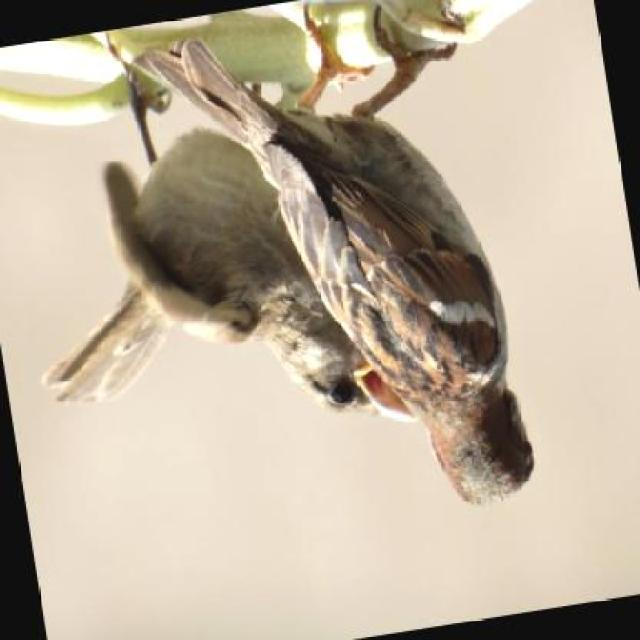sparrow: (140, 8, 538, 550), (13, 104, 409, 476)
